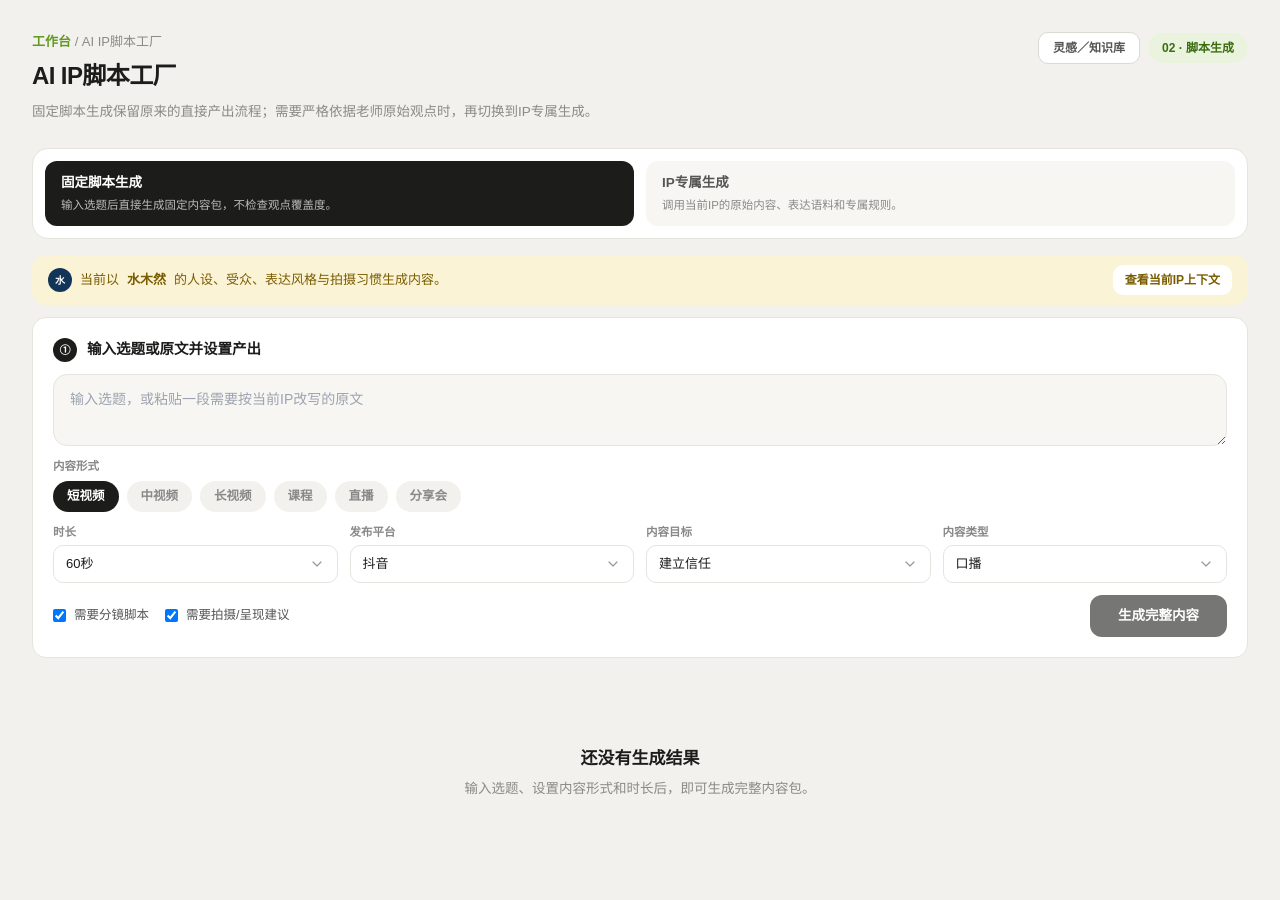
Test: 完整脚本生成并保存成功后才新增已用于脚本记录
In the text box with placeholder "输入选题，或粘贴一段需要按当前IP改写的原文": (640, 410) [53,374,1227,446], type "成功后才能记录知识"
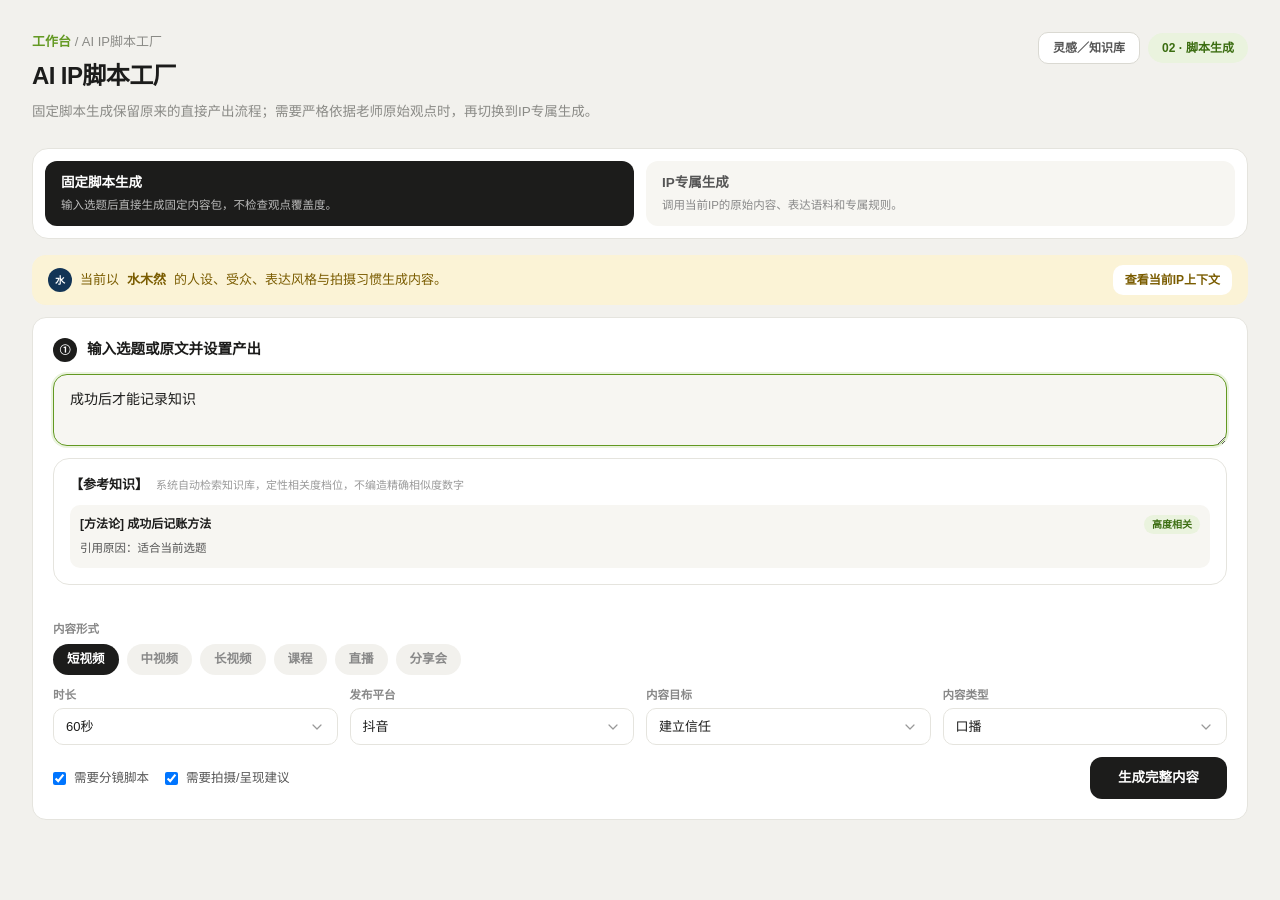
Expected: the text "[方法论] 成功后记账方法" is shown, [80,515,211,533]
Click the button "生成完整内容": (1158, 778) [1090,757,1227,799]
(page scrolled)
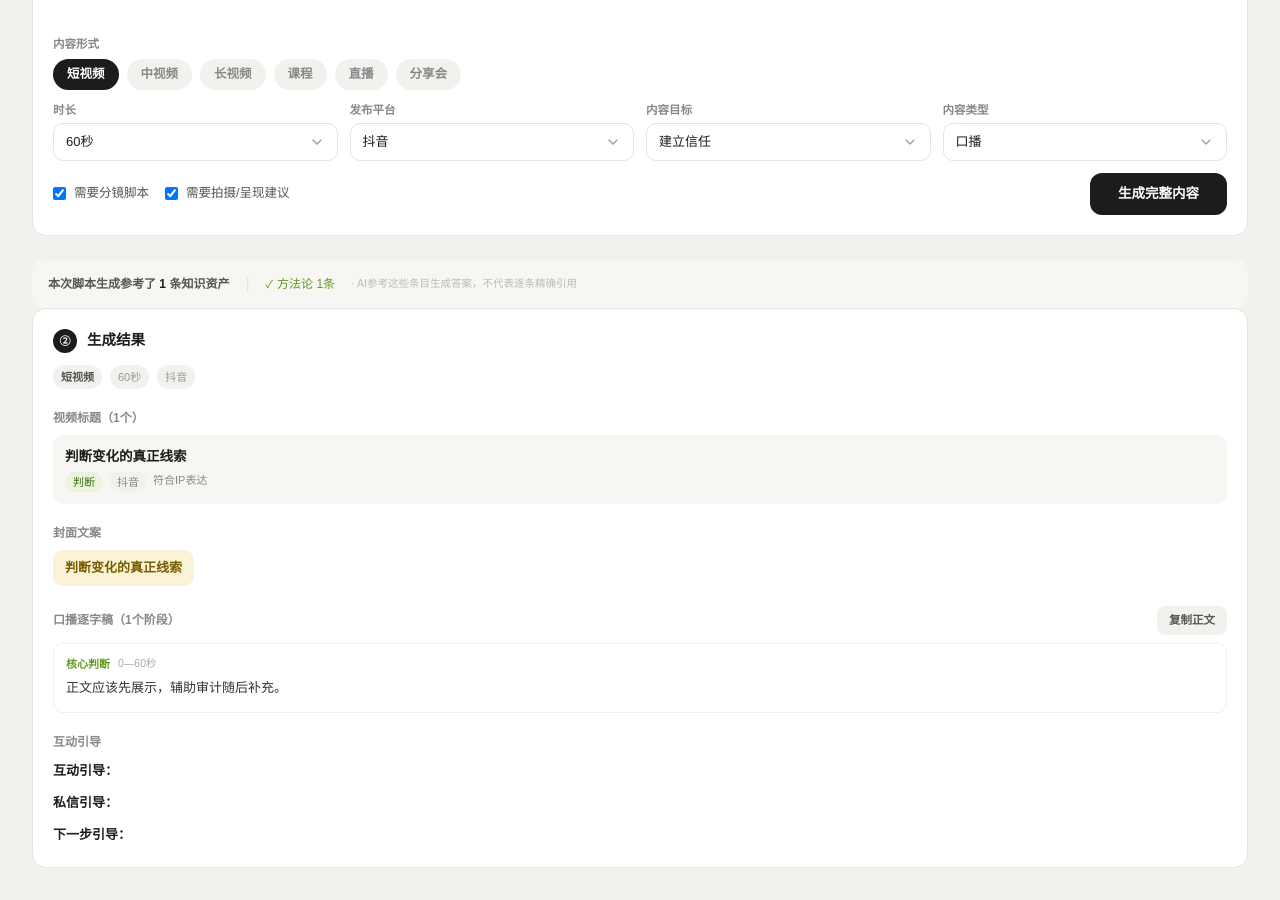
Expected: the text "正文应该先展示，辅助审计随后补充。" is shown, [66,680,287,695]
